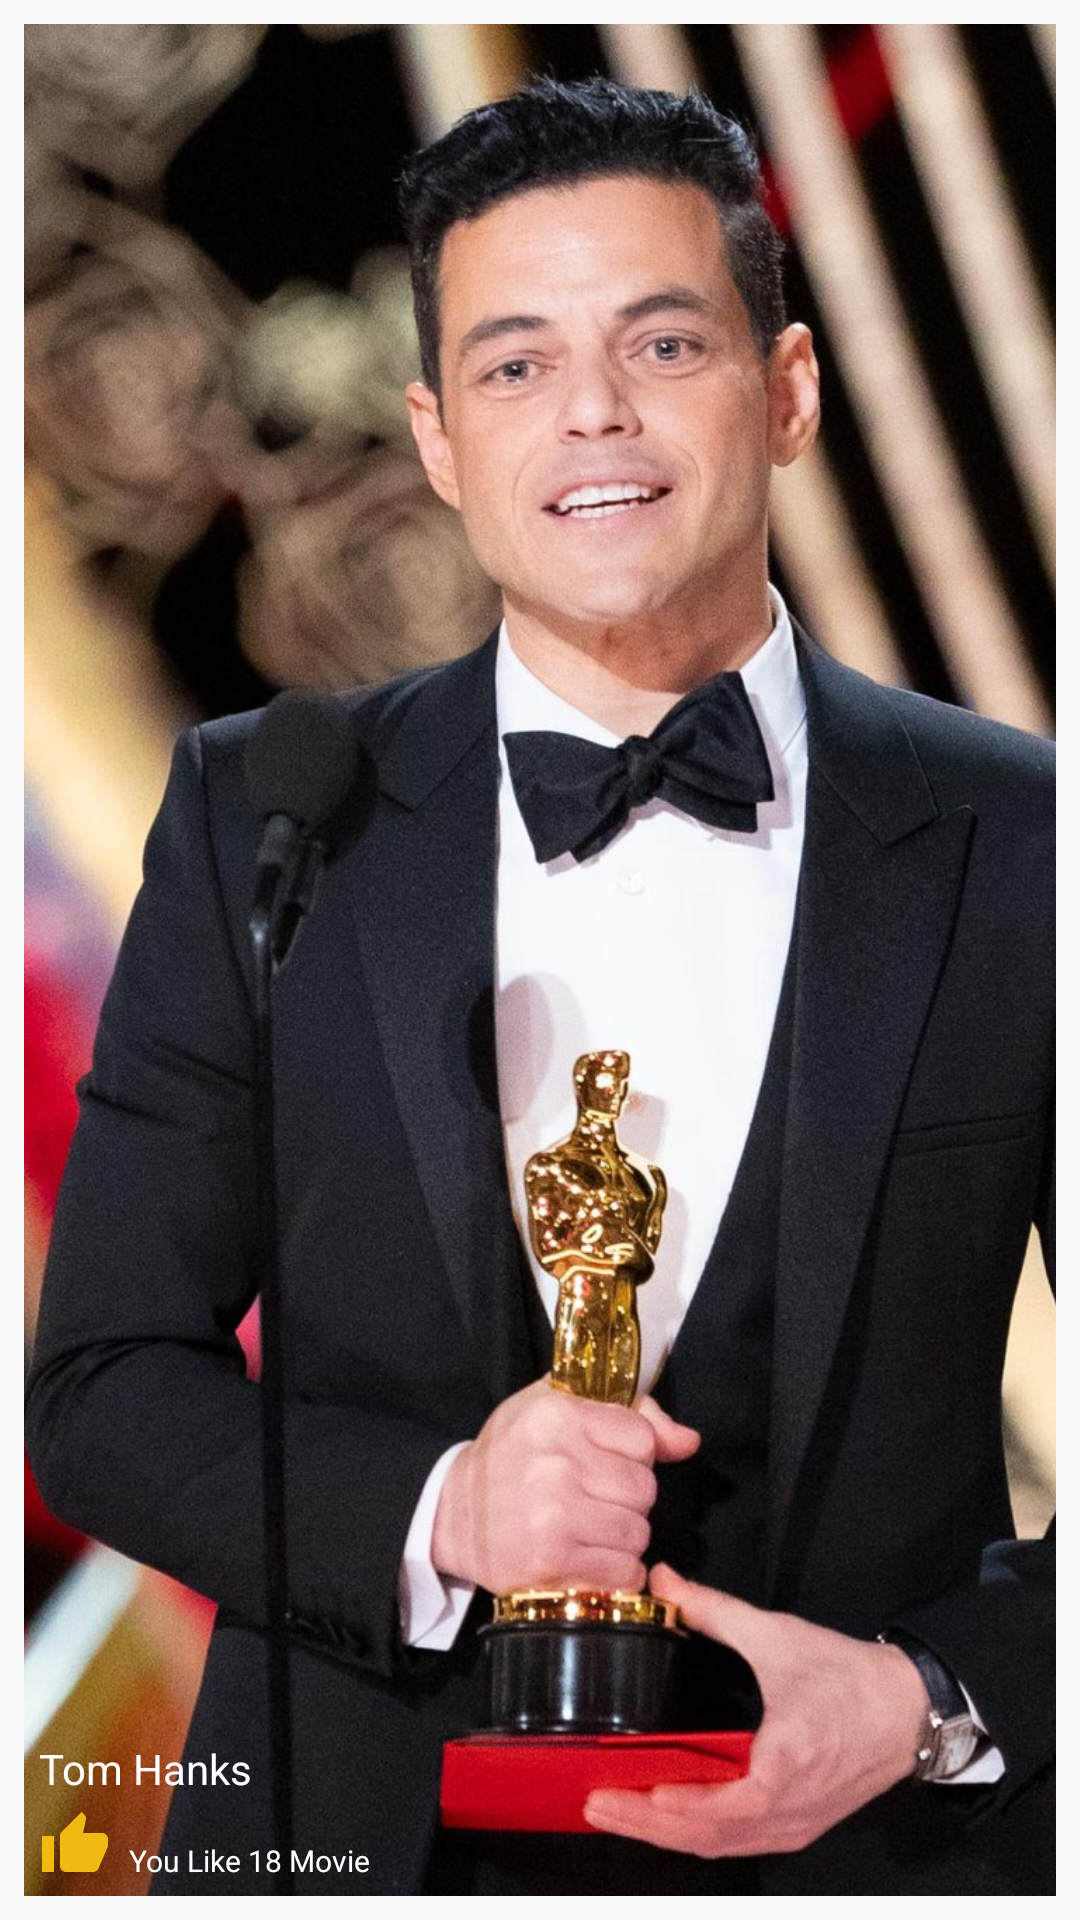

Named icons in this screenshot (1080x1920) and their centers, [x,y]:
thumb up: [75,1845]
